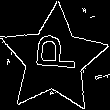P_W: (28, 39, 80, 80)
